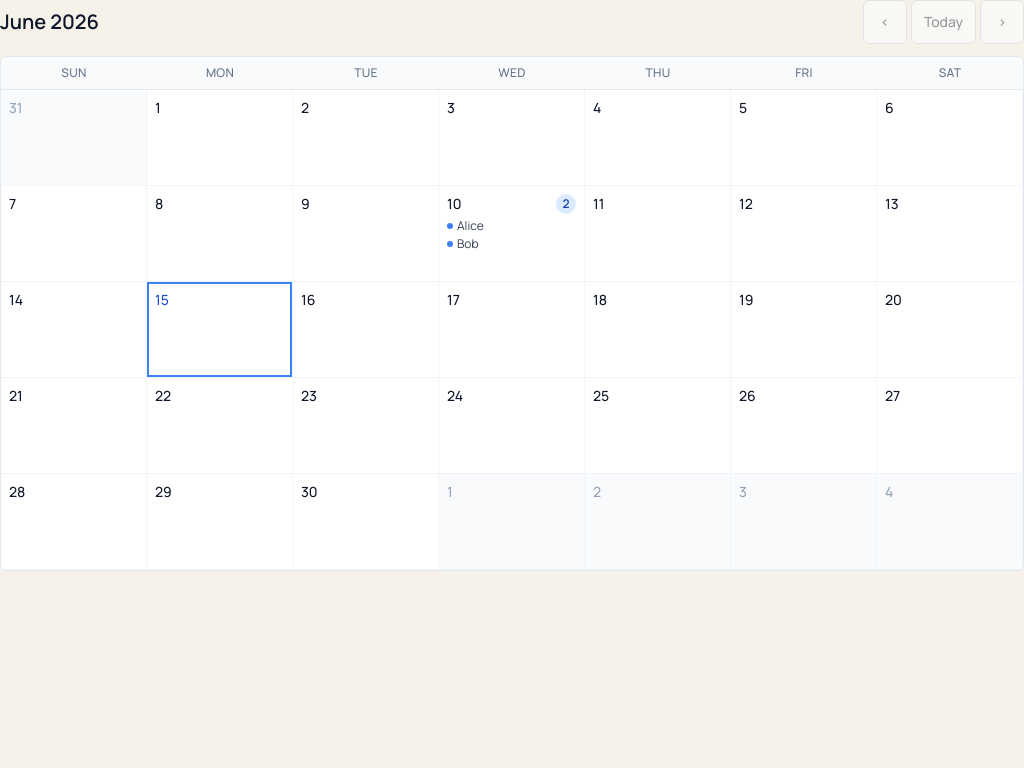
it: IntermentCalendar › opens the drill-in Sheet listing all events for the clicked day
The image size is (1024, 768).
Step 1. Click the cell with test id "calendar-cell-2026-06-10" → [512, 234], box [439,186,585,282]
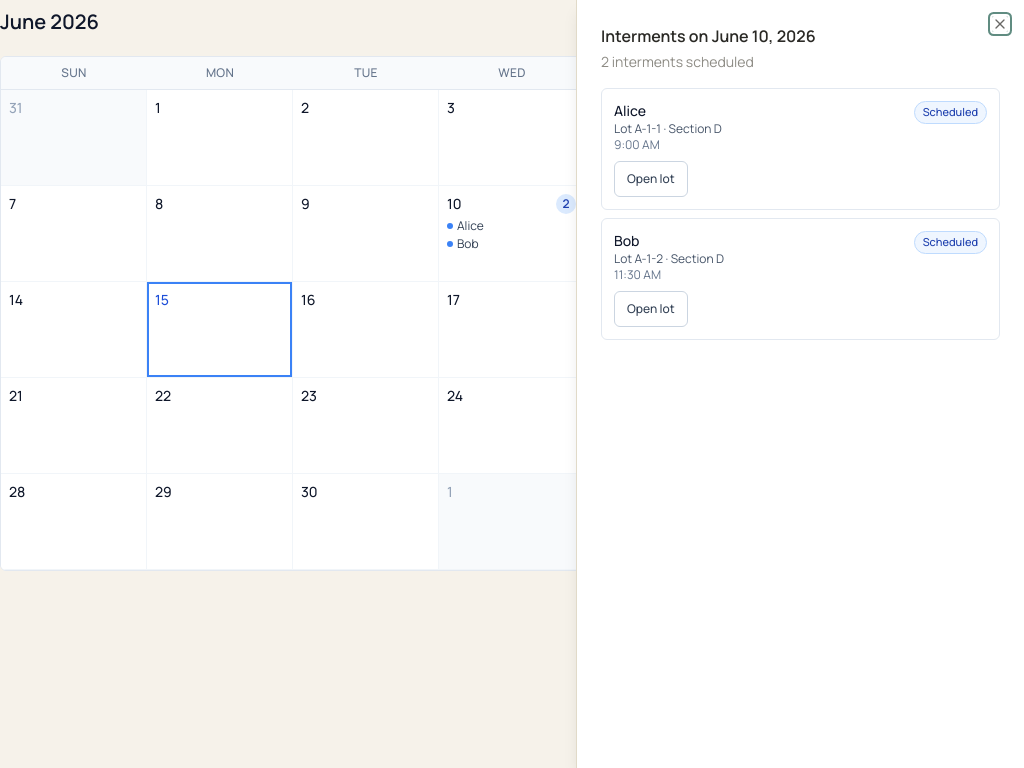
expect the text "2 interments scheduled" is shown: met, box [601,52,754,71]
expect the list item with test id "calendar-sheet-event-interments:a" is shown: met, box [601,88,1000,210]
expect the list item with test id "calendar-sheet-event-interments:b" is shown: met, box [601,218,1000,340]
